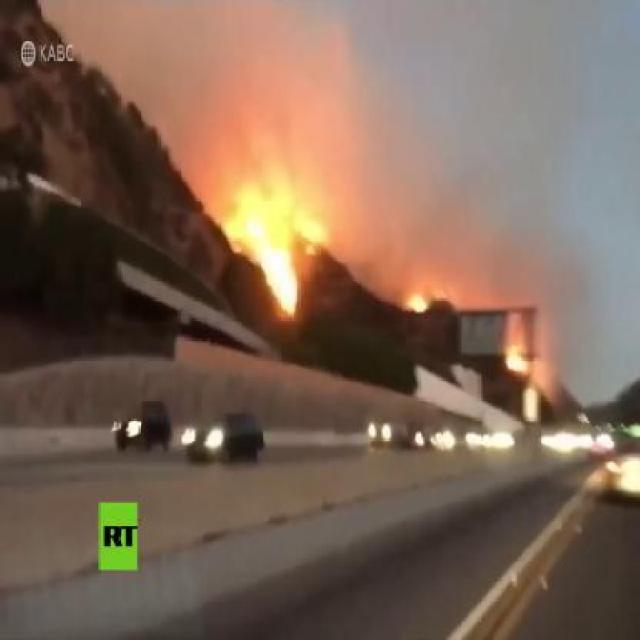Fire: (219, 182, 299, 320), (506, 345, 528, 373), (406, 289, 428, 314)
